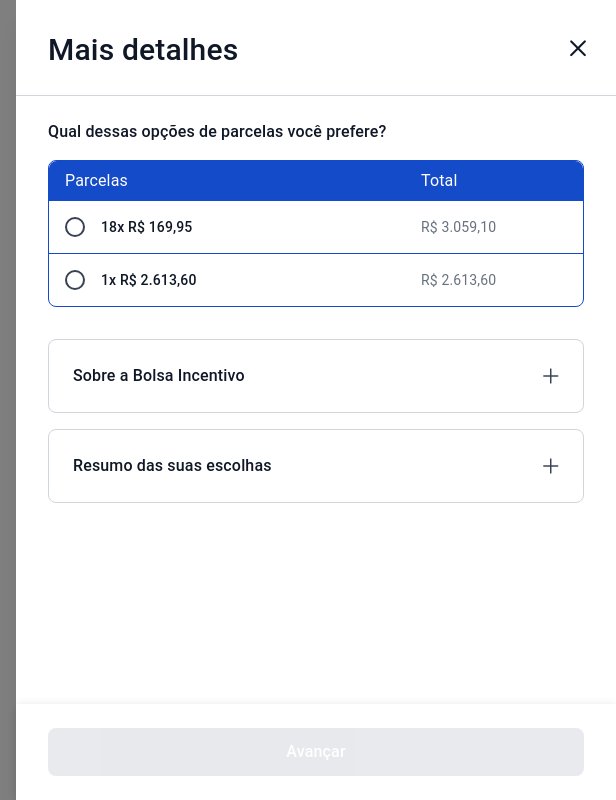
it: OfferDetailsModal › Verifica se o accordion abre e fecha ao clicar
Expected: the text "Aqui vai o conteúdo..." is not shown
Note: Clica para abrir
Click the button "Sobre a Bolsa Incentivo" at (159, 376), box top-left (49, 340), bottom-right (583, 412)
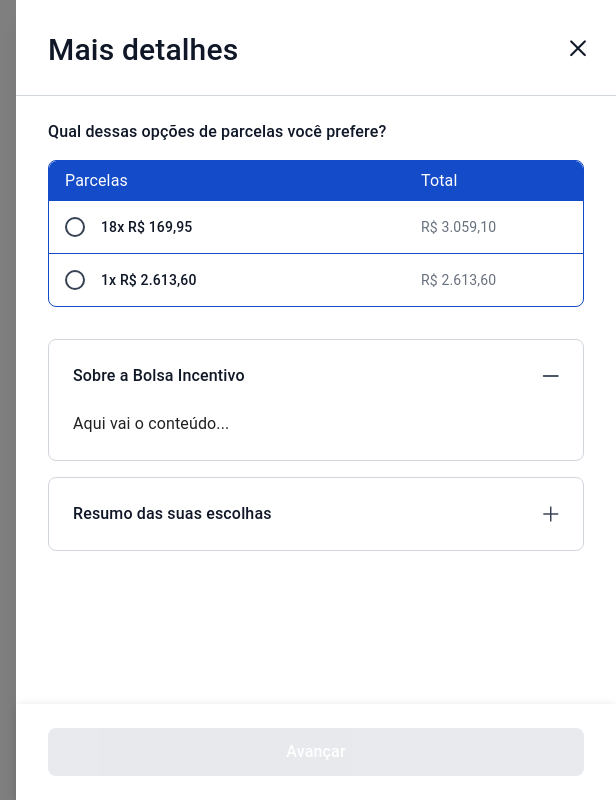
Now the text "Aqui vai o conteúdo..." is shown, box top-left (73, 414), bottom-right (230, 433)
Note: Clica para fechar
Click the button "Sobre a Bolsa Incentivo" at (159, 376), box top-left (49, 340), bottom-right (583, 412)
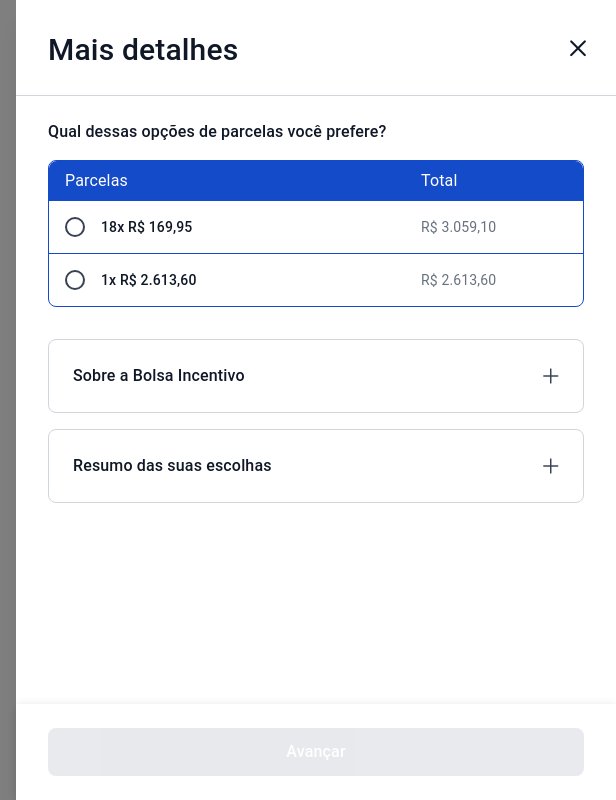
Now the text "Aqui vai o conteúdo..." is gone
